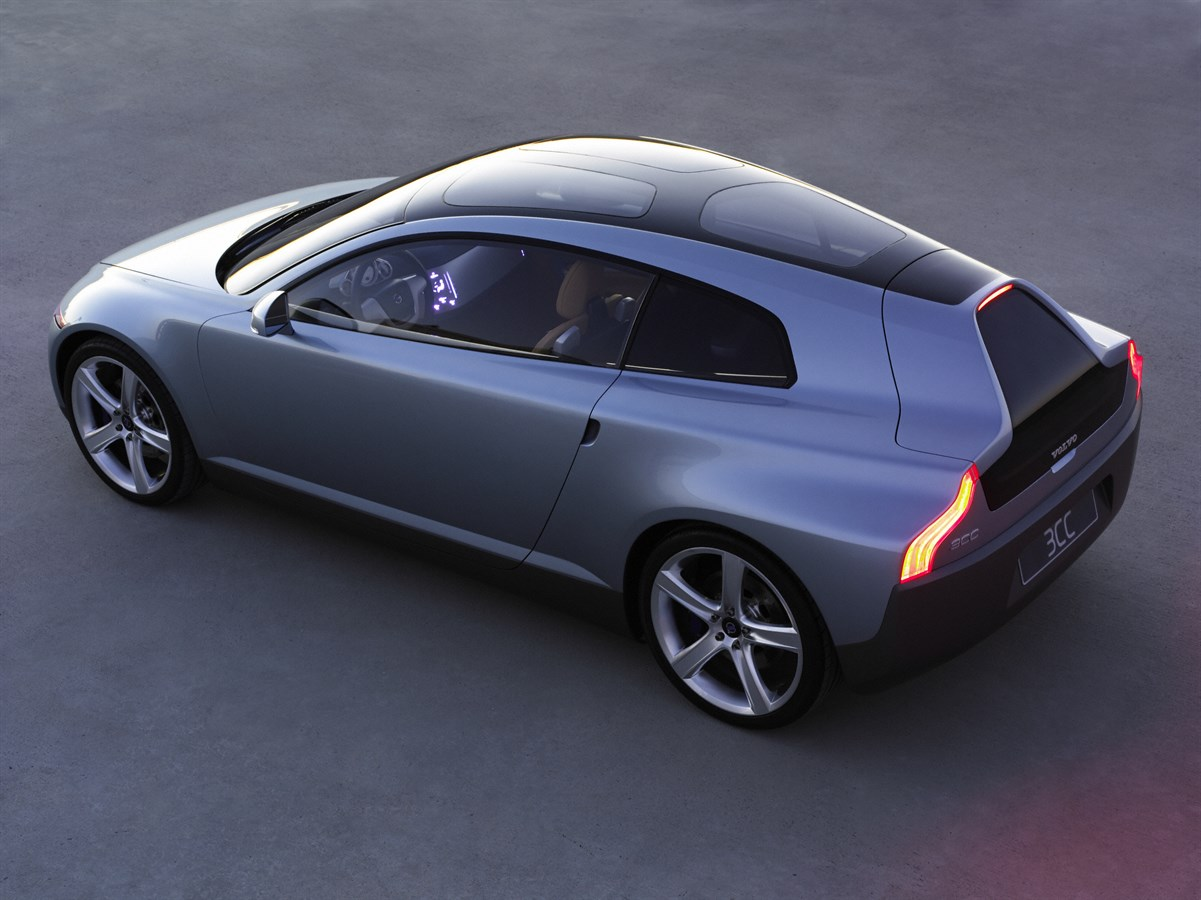other: (37, 148, 1146, 747)
